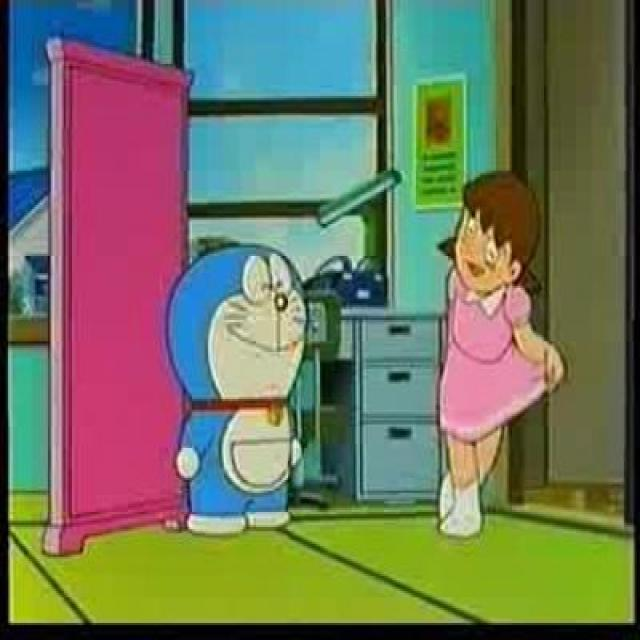doraemon: (165, 239, 307, 424)
shizuka: (435, 168, 549, 314)
